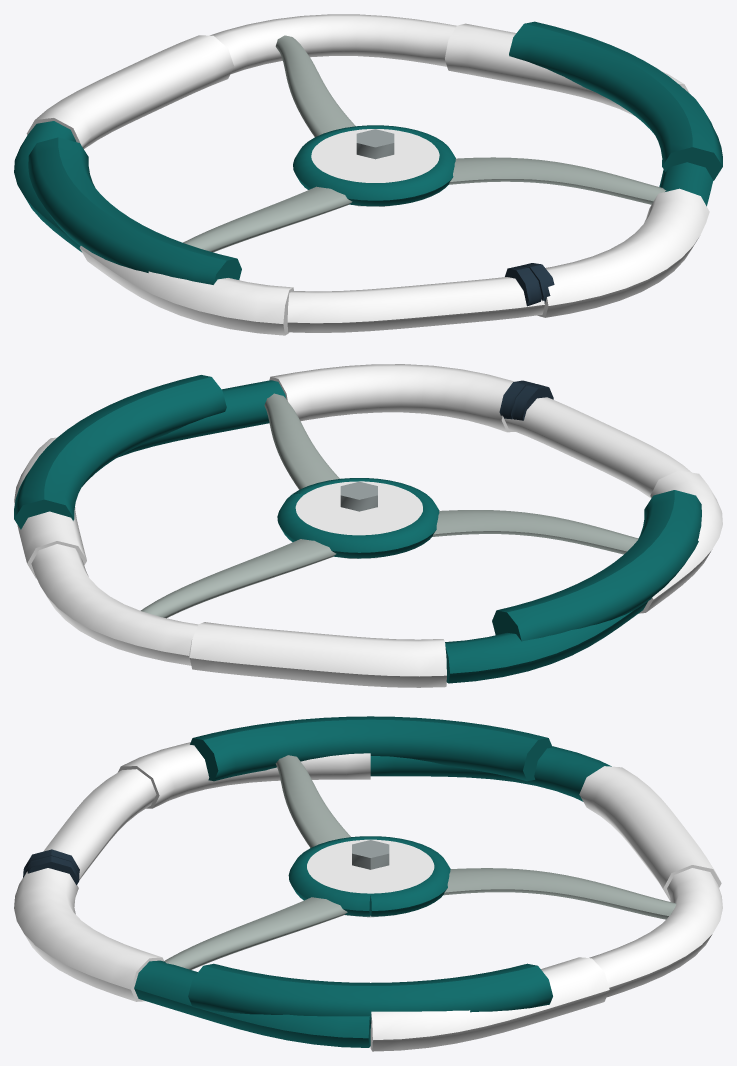
Rendered from Wheel_12_R_碧線・剪断.glb.
The picture shows the model from 3 angles, top to bottom: view 1: azimuth 30°, elevation 25°; view 2: azimuth 150°, elevation 25°; view 3: azimuth 270°, elevation 25°; orthographic projection.
Parts seen in each view (by area): view 1: Wheel_12_R; view 2: Wheel_12_R; view 3: Wheel_12_R.
Boxes of the visible parts, x1,y1,x2,y2 form: Wheel_12_R: (14, 14, 722, 335); Wheel_12_R: (14, 364, 722, 687); Wheel_12_R: (14, 716, 722, 1051).
Bounding box in the file's own units: 0.3288 × 0.0299 × 0.3284.
4 materials, 4 textured.
